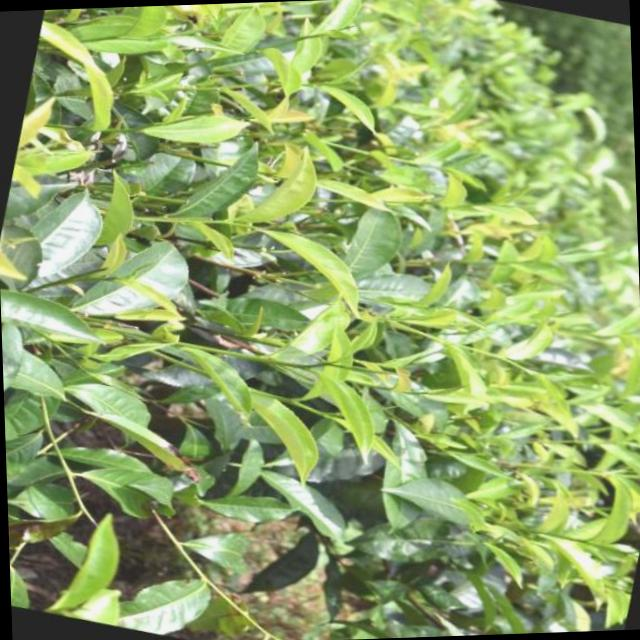Stem: (287, 363, 305, 371), (294, 34, 308, 41), (310, 408, 322, 415), (487, 352, 498, 358), (300, 83, 313, 87), (213, 219, 225, 223)
